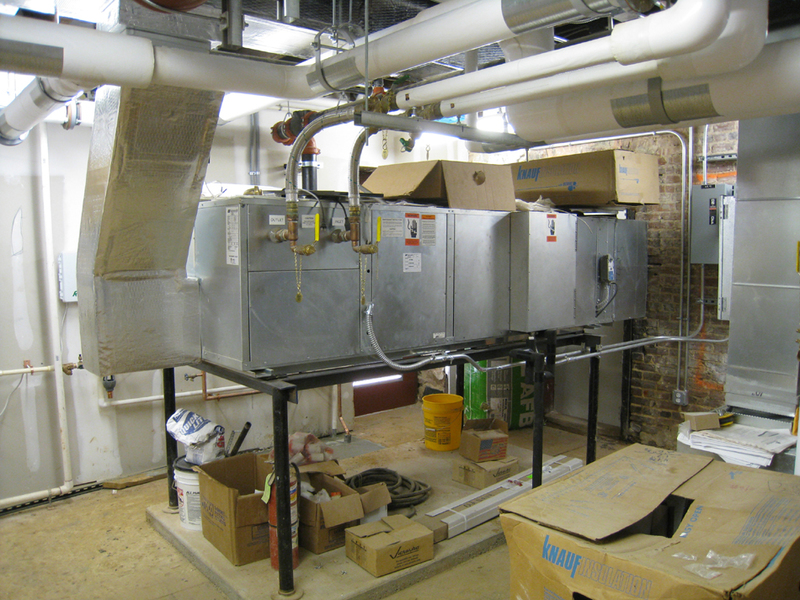valve: (373, 215, 395, 261), (312, 207, 327, 259)
